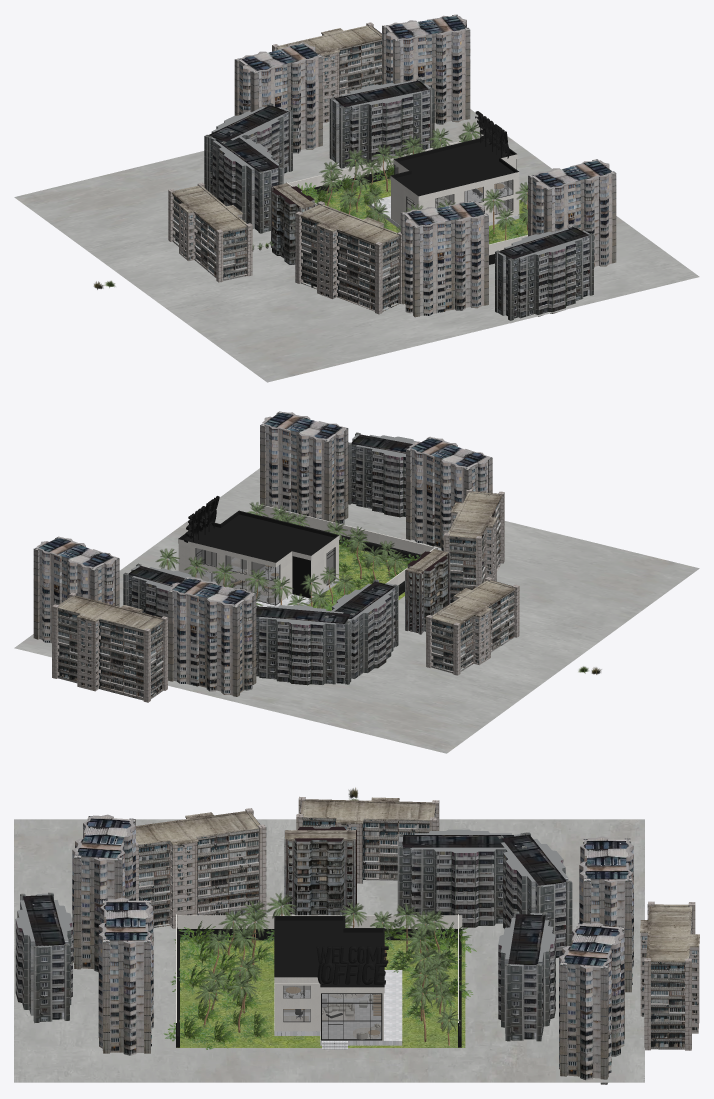
The model's file is campus.glb.
3 renders of one model, top to bottom at view 1: azimuth 30°, elevation 25°; view 2: azimuth 150°, elevation 25°; view 3: azimuth 270°, elevation 25°, orthographic. The views are drawn at different scales.
Visible parts, largest first — view 1: Plane.097, Plane.103, Cube.037, Plane.105, Plane.108, Plane.106, Plane.102, Plane.107, Cube.042, Plane.017, Plane.100, Cube.043 (+7 smaller); view 2: Plane.097, Cube.043, Plane.107, Plane.102, Plane.104, Plane.103, Cube.042, Plane.106, Plane.017, Cube.037, Plane.105, Plane.100 (+8 smaller); view 3: Plane.097, Cube.037, Plane.019, Plane.106, Plane.100, Plane.102, Cube.043, Plane.103, Plane.105, Plane.108, Cube.042, Plane.017 (+28 smaller).
Part boxes in pixels (<box>): Plane.097: <box>14,109,699,382</box>; Plane.103: <box>400,200,488,317</box>; Cube.037: <box>295,201,401,314</box>; Plane.105: <box>495,225,593,320</box>; Plane.108: <box>329,78,434,168</box>; Plane.106: <box>382,14,470,124</box>; Plane.102: <box>528,159,616,267</box>; Plane.107: <box>234,42,322,153</box>; Cube.042: <box>168,182,252,282</box>; Plane.017: <box>390,137,519,200</box>; Plane.100: <box>207,130,283,233</box>; Cube.043: <box>272,22,381,122</box>; Plane.097: <box>14,468,699,753</box>; Cube.043: <box>52,592,167,702</box>; Plane.107: <box>168,577,256,696</box>; Plane.102: <box>260,411,348,524</box>; Plane.104: <box>256,605,354,685</box>; Plane.103: <box>406,436,492,550</box>; Cube.042: <box>426,577,519,675</box>; Plane.106: <box>33,536,119,643</box>; Plane.017: <box>178,510,339,567</box>; Cube.037: <box>443,489,504,602</box>; Plane.105: <box>348,432,416,517</box>; Plane.100: <box>323,579,398,682</box>; Plane.097: <box>14,819,644,1082</box>; Cube.037: <box>136,808,266,928</box>; Plane.019: <box>176,936,465,1047</box>; Plane.106: <box>559,922,624,1084</box>; Plane.100: <box>397,829,526,927</box>; Plane.102: <box>98,897,153,1055</box>; Cube.043: <box>640,901,699,1050</box>; Plane.103: <box>72,814,135,972</box>; Plane.105: <box>15,892,72,1023</box>; Plane.108: <box>498,911,555,1041</box>; Cube.042: <box>296,796,439,883</box>; Plane.017: <box>274,916,384,993</box>.
Bounding box in the file's own units: 61.72 × 13.96 × 62.7.
27 materials, 24 textured.
